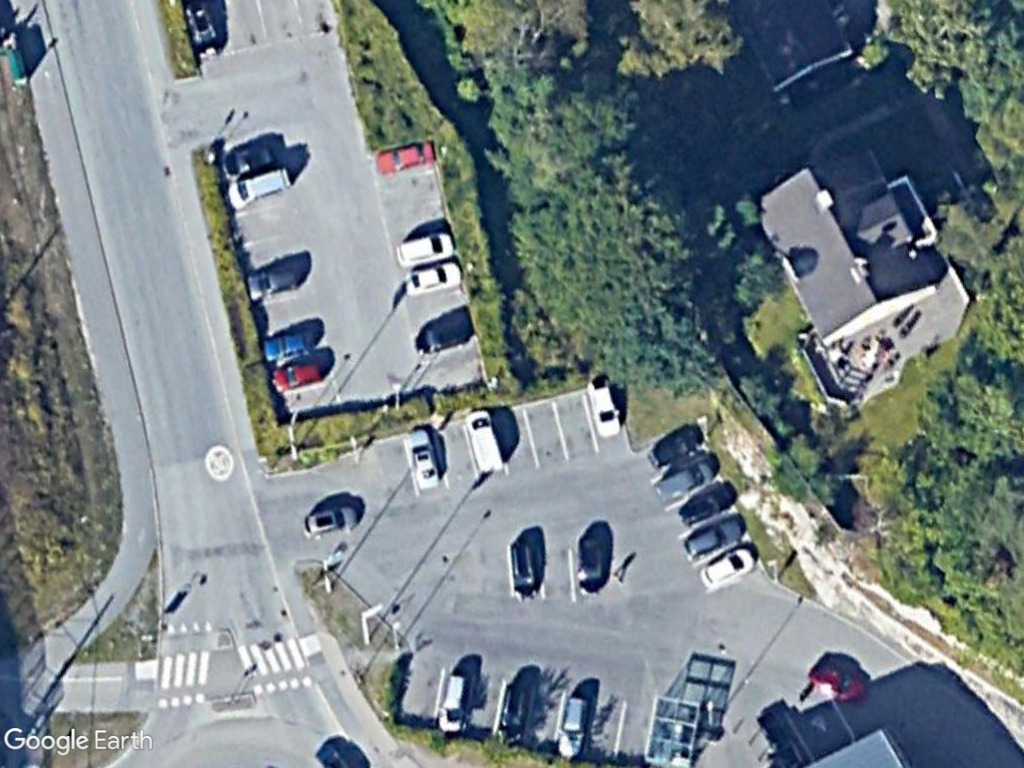car: (680, 513, 747, 563), (392, 227, 457, 271), (698, 544, 760, 590), (403, 424, 444, 492), (373, 135, 437, 178), (554, 689, 591, 761), (412, 315, 475, 357), (400, 258, 465, 298), (434, 667, 471, 737), (506, 537, 546, 601), (267, 352, 327, 394), (300, 500, 360, 541), (587, 373, 624, 439), (245, 260, 304, 301), (258, 325, 316, 365), (572, 531, 605, 598)
van: (226, 164, 296, 212), (463, 408, 508, 478)
